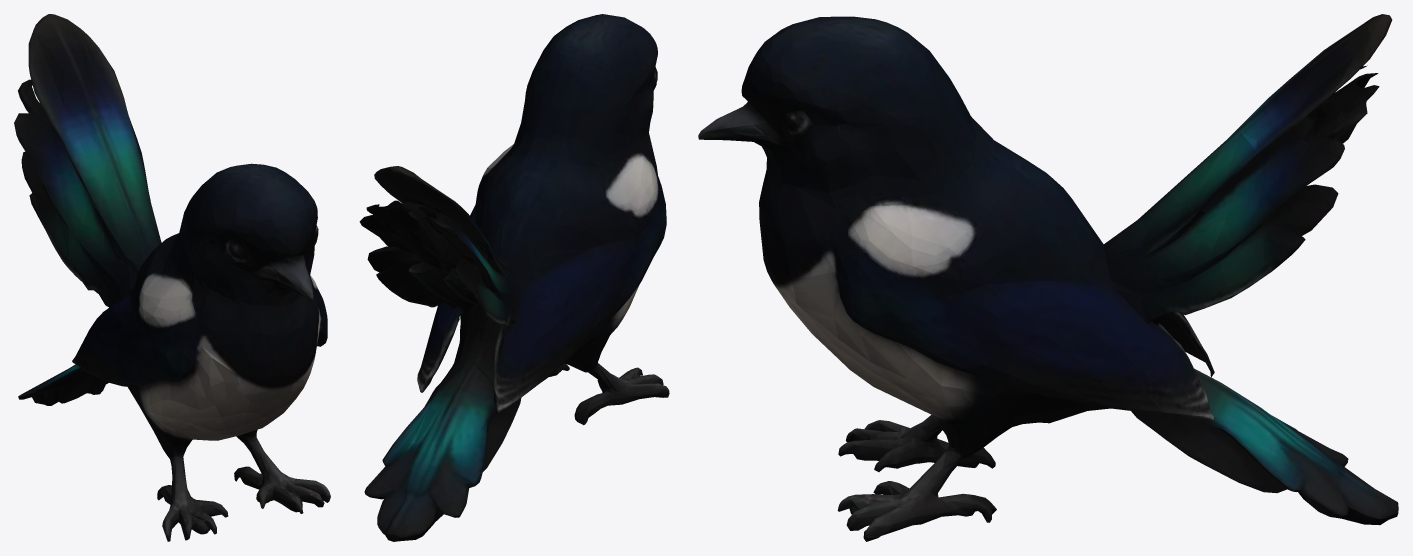
Rendered from magpie.glb.
The picture shows the model from 3 angles, left to right: view 1: azimuth 30°, elevation 25°; view 2: azimuth 150°, elevation 25°; view 3: azimuth 270°, elevation 25°; orthographic projection. The views are drawn at different scales.
Visible parts, largest first — view 1: geometry_0; view 2: geometry_0; view 3: geometry_0.
Boxes of the visible parts, x1,y1,x2,y2 form: geometry_0: (14,14,330,541); geometry_0: (359,14,669,541); geometry_0: (698,14,1398,541).
Bounding box in the file's own units: 0.3602 × 0.7915 × 1.
1 material, 1 textured.
